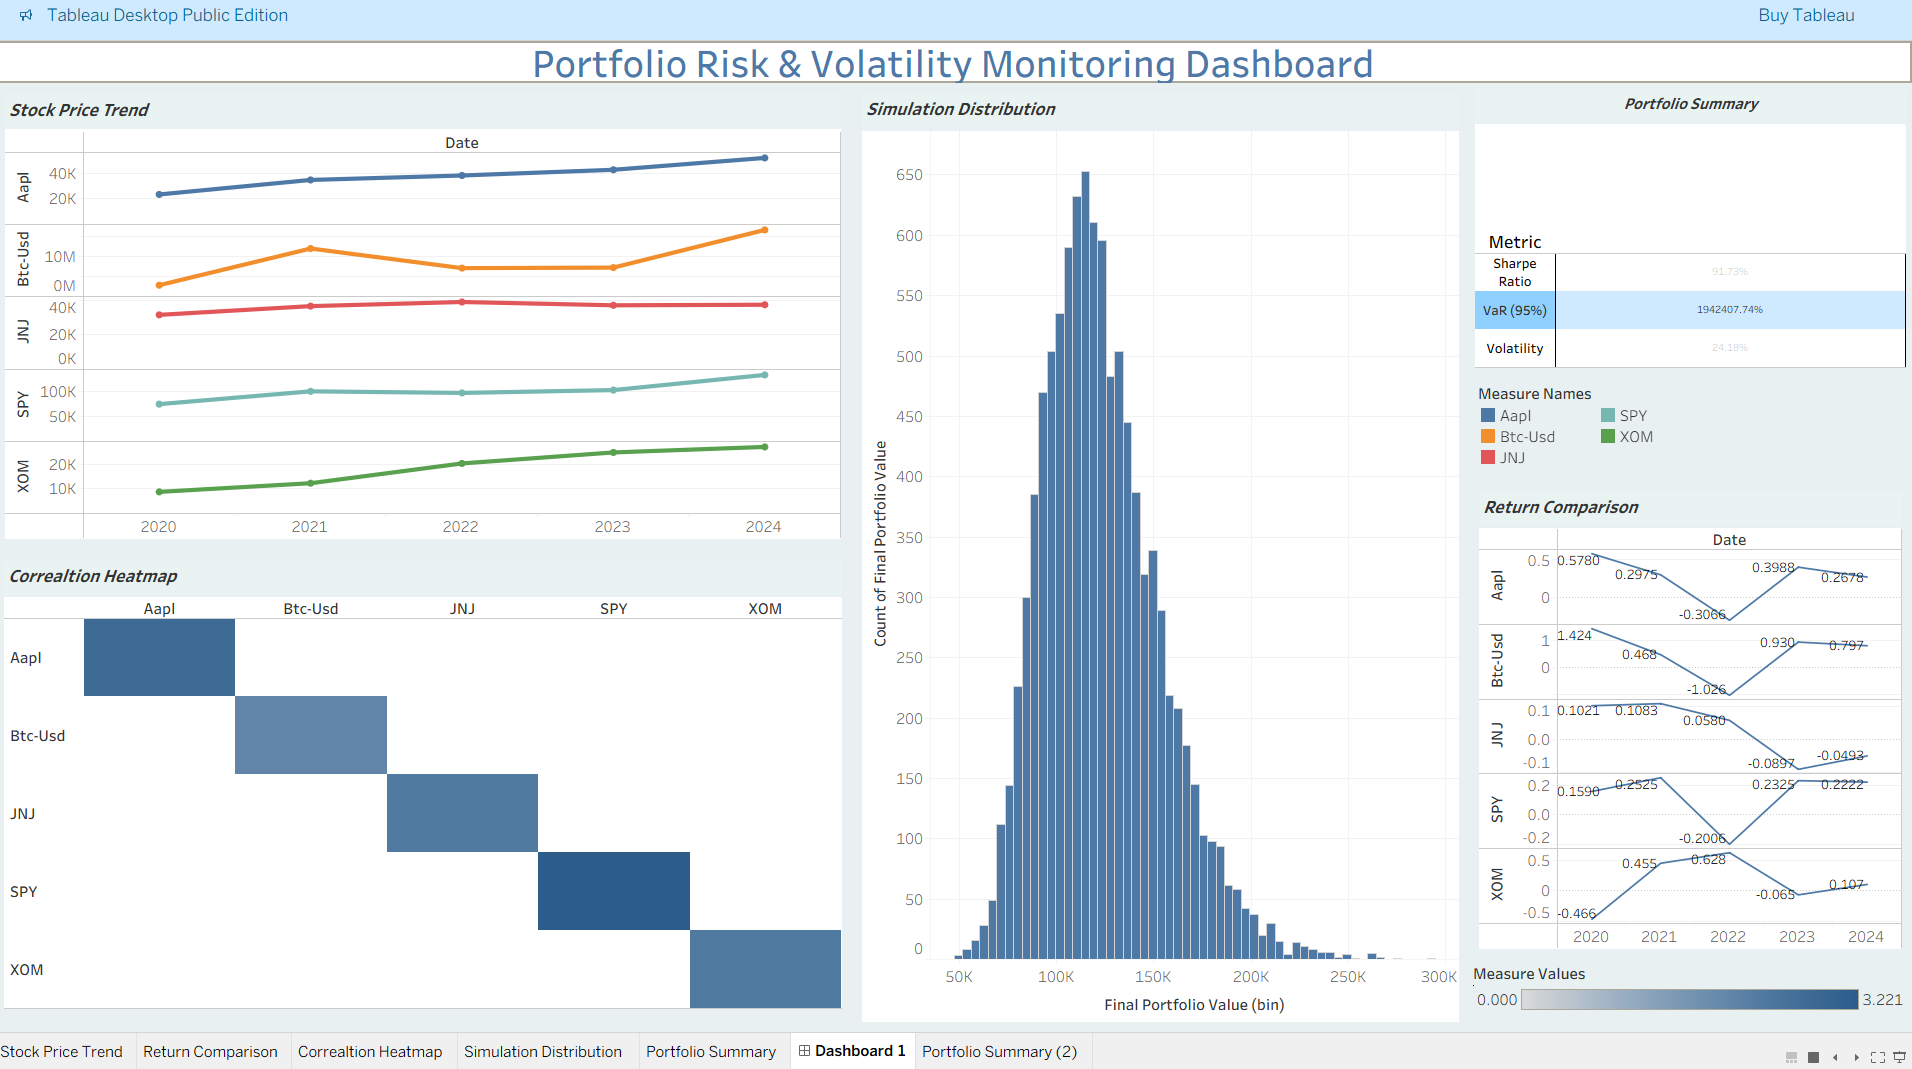

The page's visual inventory and layout, read from the dashboard file:
{"tool":"tableau","page":{"name":"Dashboard 1","canvas":[1000,1000],"units":"permille","ordinal":0},"visuals":[{"type":"title","box":[0.6,1.2,998.8,52.5]},{"type":"worksheet","title":"Stock Price Trend","mark":"Line","rows":["AAPL","BTC-USD","JNJ","SPY","XOM"],"cols":["Date"],"box":[0.6,53.8,423.9,464.8]},{"type":"worksheet","title":"Simulation Distribution","mark":"Automatic","rows":["Final Portfolio Value"],"cols":["Final Portfolio Value (bin)"],"box":[424.5,53.8,305,945]},{"type":"worksheet","title":"Portfolio Summary","mark":"Automatic","rows":["Metric"],"box":[729.4,53.8,270,363.8]},{"type":"legend","title":"Stock Price Trend","param":"[federated.1e6ihl20t82bes1984ank1g1880q].[:Measure Names]","box":[729.4,417.5,270,133.8]},{"type":"worksheet","title":"Correaltion Heatmap","mark":"Square","box":[0.6,518.6,423.9,480.2]},{"type":"worksheet","title":"Return Comparison","mark":"Line","rows":["AAPL","BTC-USD","JNJ","SPY","XOM"],"cols":["Date"],"box":[729.4,551.2,270,356.2]},{"type":"legend","title":"Correaltion Heatmap","param":"[federated.0495f2j1vwr12k1abih191elj045].[Multiple Values]","box":[729.4,907.5,270,91.2]}]}

Visuals, with their boxes on the dashboard's canvas, which has no fixed pixel size, in thousandths of its width and height (x1, y1, x2, y2). These are canvas units, not pixel positions in the 1912x1069 screenshot, which may show the page scaled, cropped or inside an application window:
title: 1/1/999/54
"Stock Price Trend" worksheet (Line marks): 1/54/424/519
"Simulation Distribution" worksheet: 424/54/730/999
"Portfolio Summary" worksheet: 729/54/999/418
"Stock Price Trend" legend: 729/418/999/551
"Correaltion Heatmap" worksheet (Square marks): 1/519/424/999
"Return Comparison" worksheet (Line marks): 729/551/999/907
"Correaltion Heatmap" legend: 729/908/999/999
